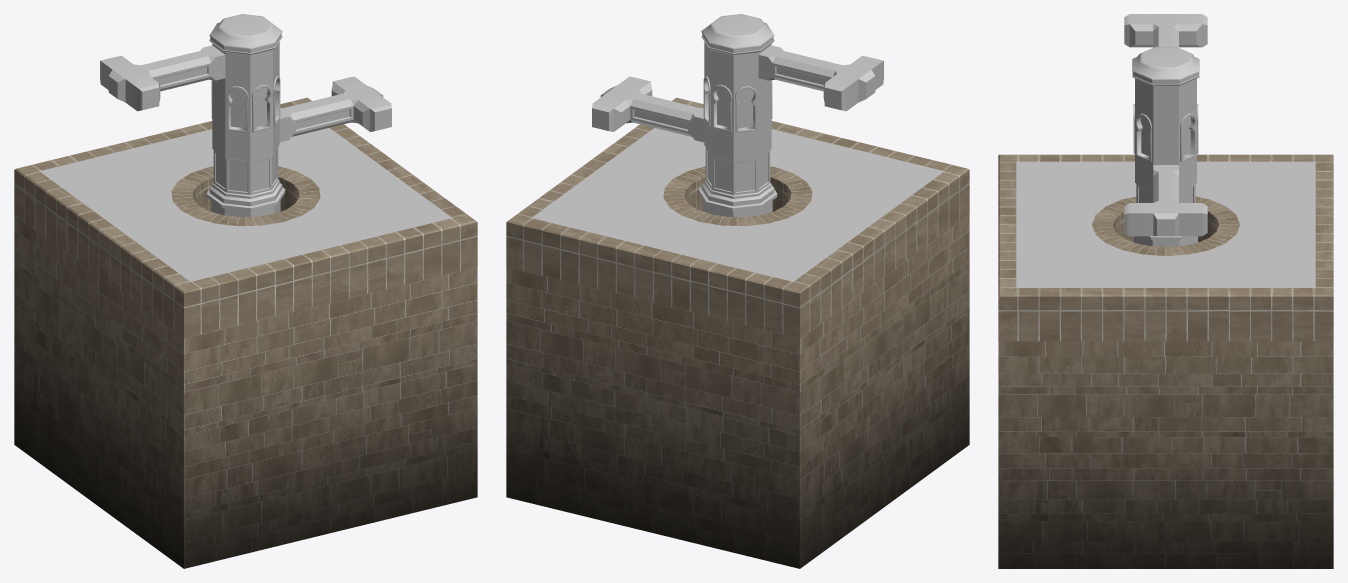
The model's file is PlatformSmallHazardSpinning.fbx.
3 renders of one model, left to right at view 1: azimuth 30°, elevation 25°; view 2: azimuth 150°, elevation 25°; view 3: azimuth 270°, elevation 25°, orthographic.
Parts seen in each view (by area): view 1: PlatformSmallHazardSpinning_Floor, SpinningArms; view 2: PlatformSmallHazardSpinning_Floor, SpinningArms; view 3: PlatformSmallHazardSpinning_Floor, SpinningArms.
Part boxes in pixels (x1=…): PlatformSmallHazardSpinning_Floor: x1=14, y1=97, x2=477, y2=568; SpinningArms: x1=100, y1=14, x2=391, y2=217; PlatformSmallHazardSpinning_Floor: x1=506, y1=97, x2=969, y2=568; SpinningArms: x1=592, y1=14, x2=883, y2=217; PlatformSmallHazardSpinning_Floor: x1=998, y1=154, x2=1333, y2=568; SpinningArms: x1=1124, y1=14, x2=1207, y2=247.
Size of the model in its own units: 500 by 726 by 500.
